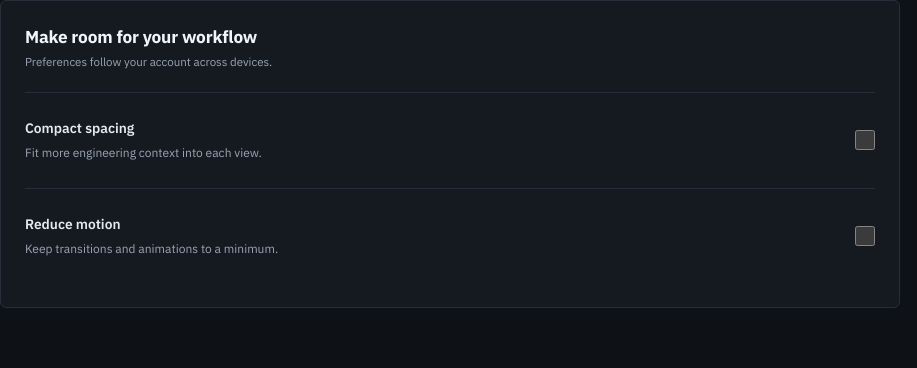
it: Engineering interactions › applies confirmed preference values to the document
Click the switch labelled "Compact spacing Fit more engineering context into each view.".
click(865, 140)  # box [855,130,875,150]
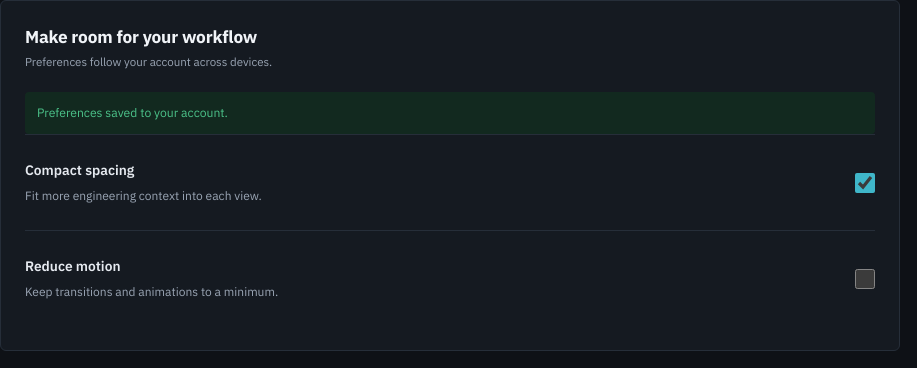
Now the text "Preferences saved to your account." is shown, box [25,92,875,134]
